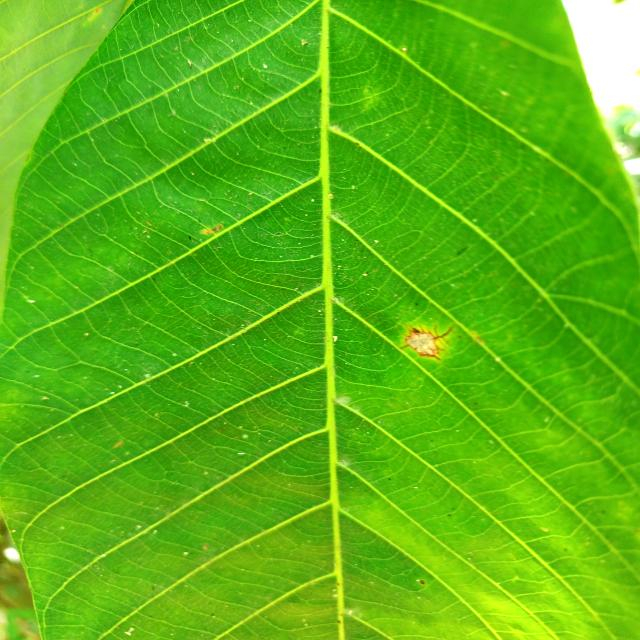Corynespora: (398, 324, 458, 361)
